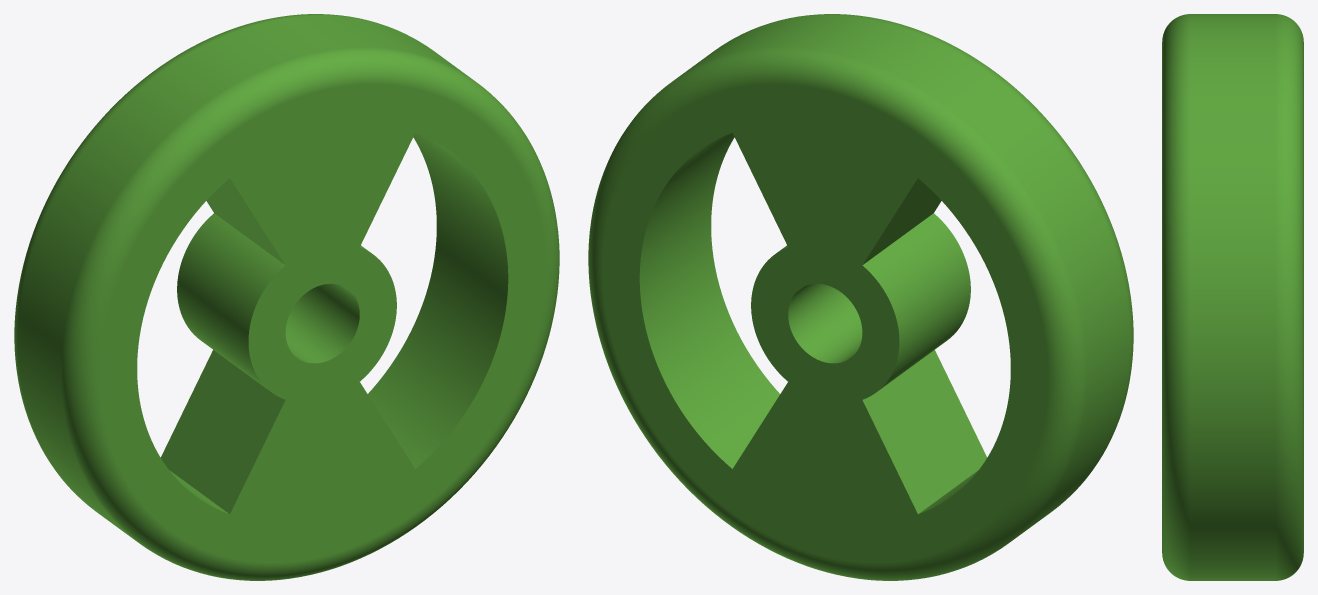
Rendered from 2WBot_wheel.dae.
The picture shows the model from 3 angles, left to right: view 1: azimuth 30°, elevation 25°; view 2: azimuth 150°, elevation 25°; view 3: azimuth 270°, elevation 25°; orthographic projection.
Visible parts, largest first — view 1: ID2; view 2: ID2; view 3: ID2.
Boxes of the visible parts, x1=… form: ID2: x1=14, y1=14, x2=559, y2=580; ID2: x1=588, y1=14, x2=1133, y2=580; ID2: x1=1162, y1=14, x2=1303, y2=580.
Bounding box in the file's own units: 0.2 × 0.05 × 0.2.
